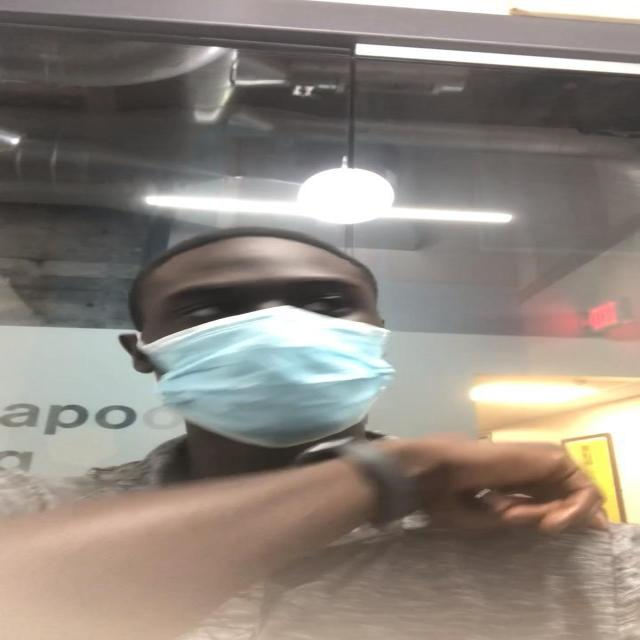face: (132, 248, 390, 444)
